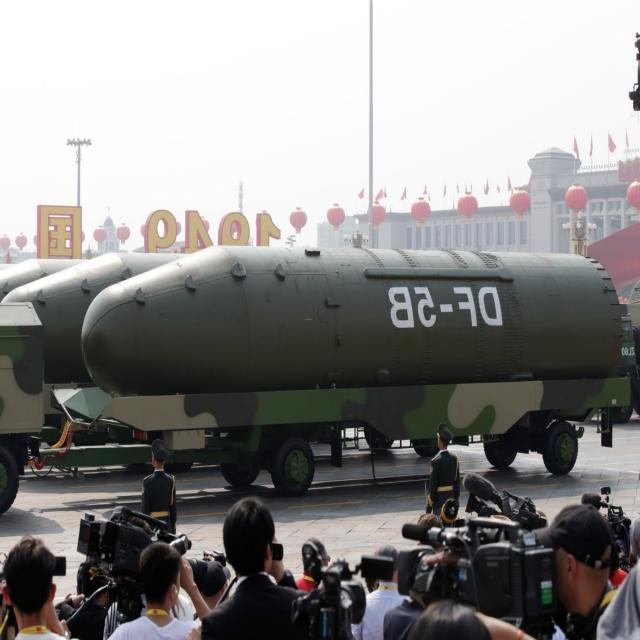missile: (78, 237, 635, 391)
